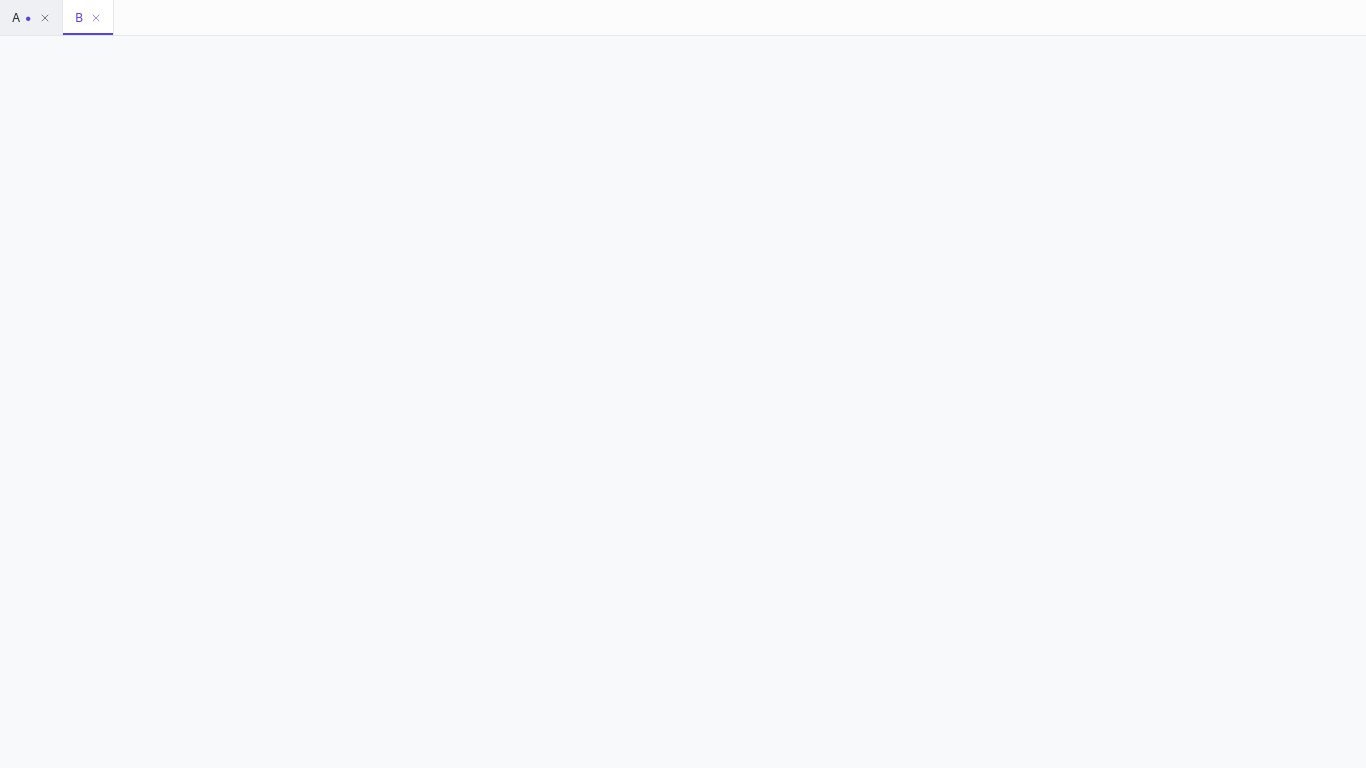
Test: EditorTabBar › opens a unified dirty confirmation modal for bulk close actions
Right-click the tab with class "editor-tab" showing "B" at [89, 18], box [63,0,114,35]
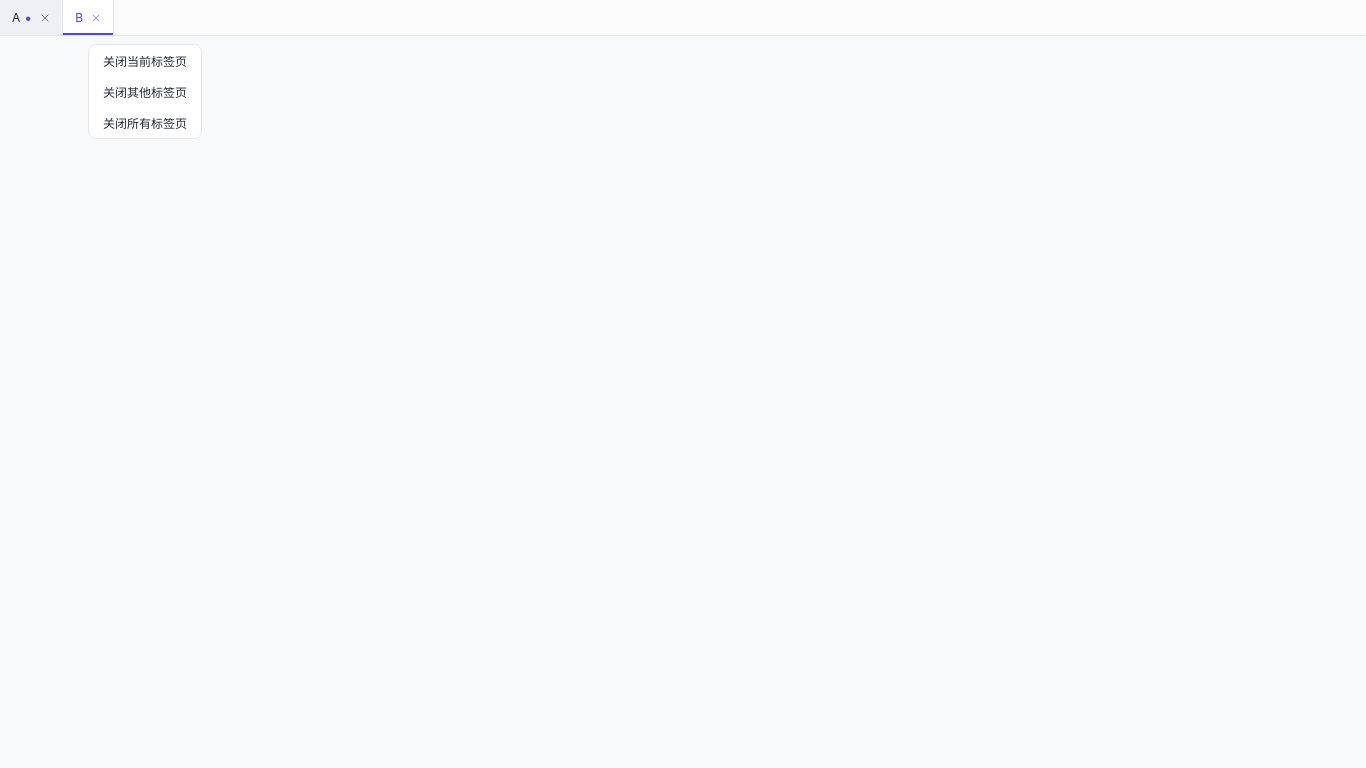
Now the button "关闭其他标签页" is shown
Click the button "关闭其他标签页" at [145, 92], box [89,76,201,107]
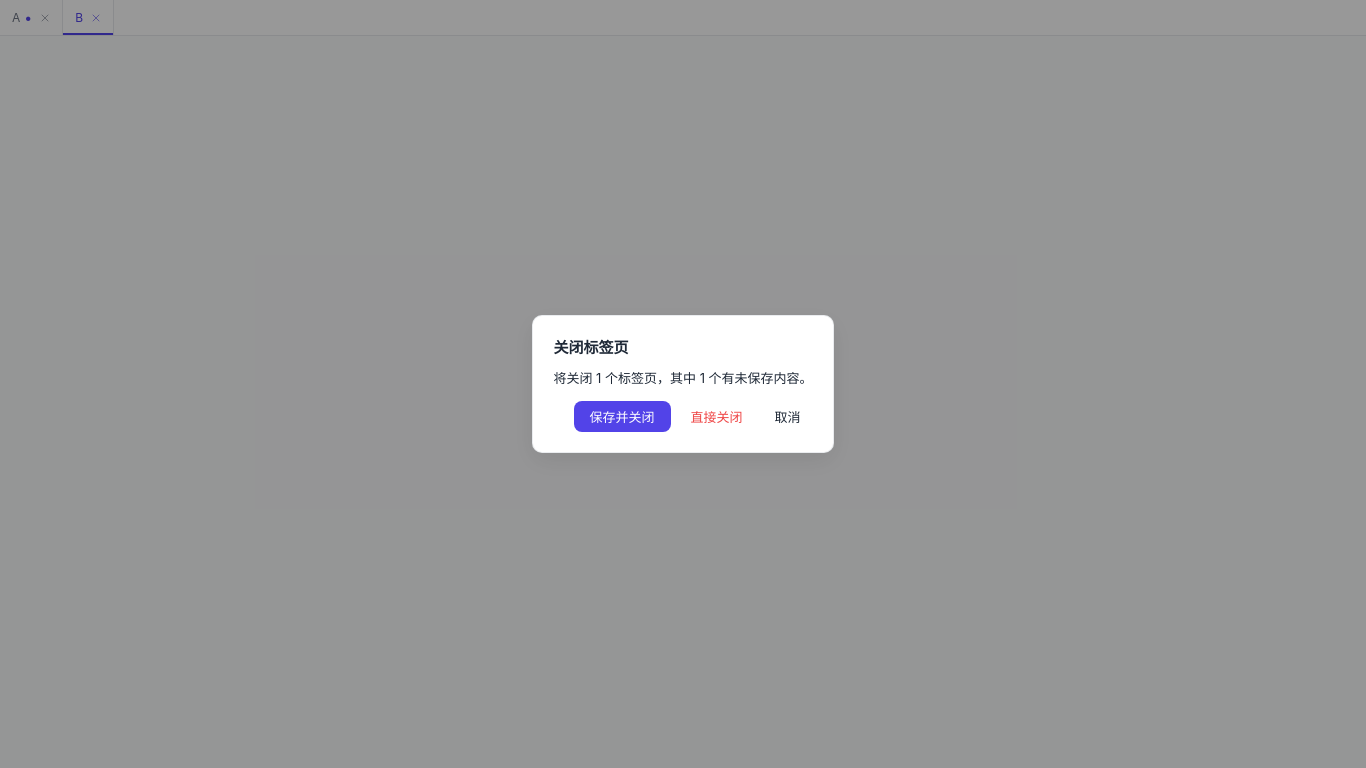
Now the element with test id "tab-close-confirm" is shown
Now the element with test id "tab-close-confirm" shows "保存并关闭", box [574,401,670,432]
Now the element with test id "tab-close-confirm" shows "直接关闭", box [679,401,755,432]
